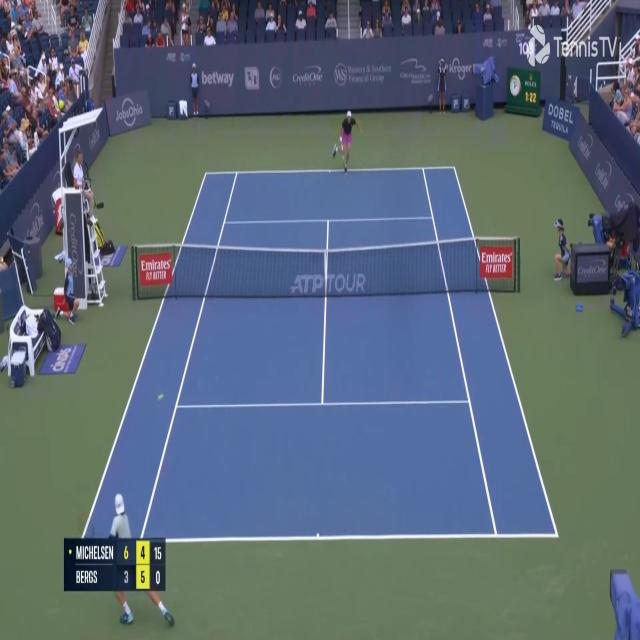tennis-player: (108, 491, 133, 628), (331, 108, 362, 174)
